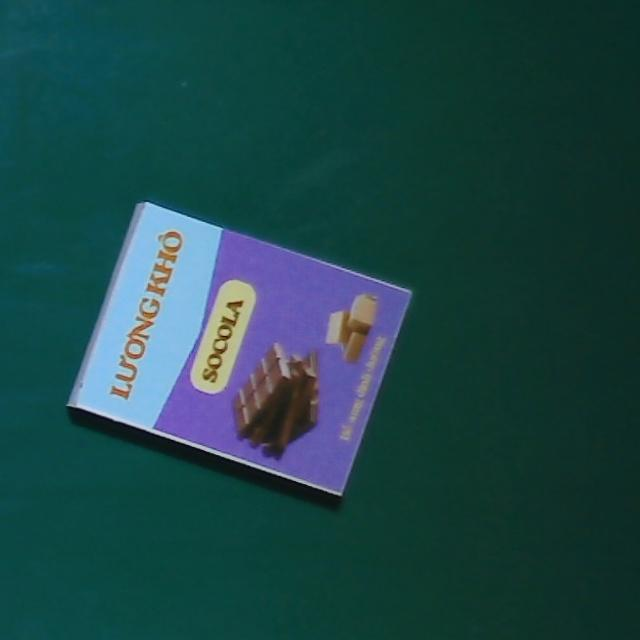socola: (67, 200, 410, 498)
